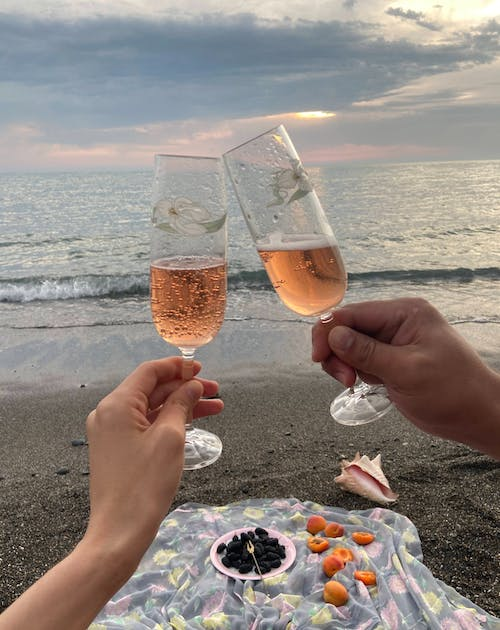alcohol: (221, 122, 396, 428), (149, 150, 229, 472)
